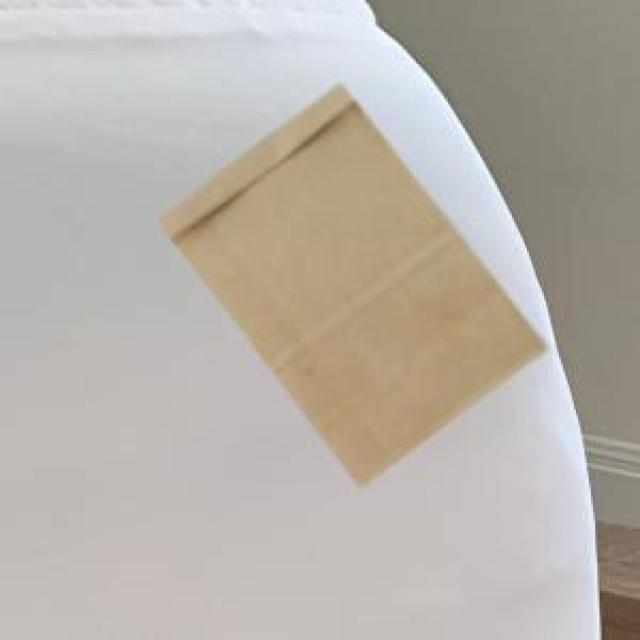paper: (156, 81, 542, 482)
